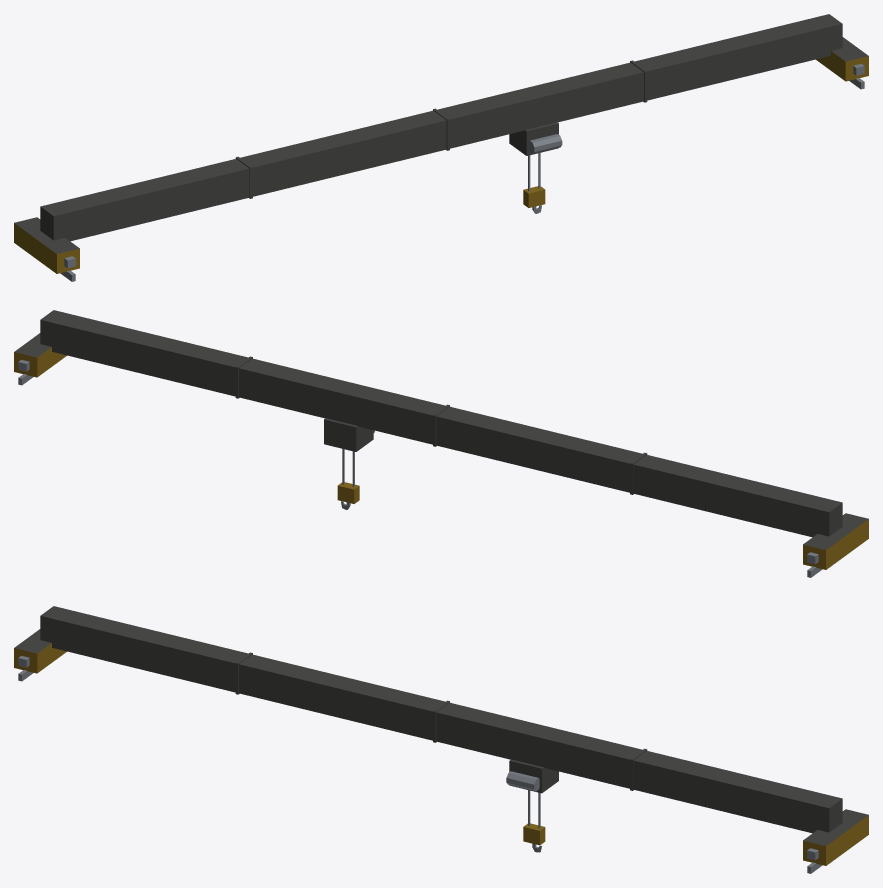
Rendered from gantry_crane.glb.
The picture shows the model from 3 angles, top to bottom: view 1: azimuth 30°, elevation 25°; view 2: azimuth 150°, elevation 25°; view 3: azimuth 330°, elevation 25°; orthographic projection.
Visible parts, largest first — view 1: gantry_crane; view 2: gantry_crane; view 3: gantry_crane.
Boxes of the visible parts, x1,y1,x2,y2 form: gantry_crane: (14,14,868,281); gantry_crane: (14,310,868,577); gantry_crane: (14,606,868,873).
Bounding box in the file's own units: 17.5 × 2.52 × 2.
